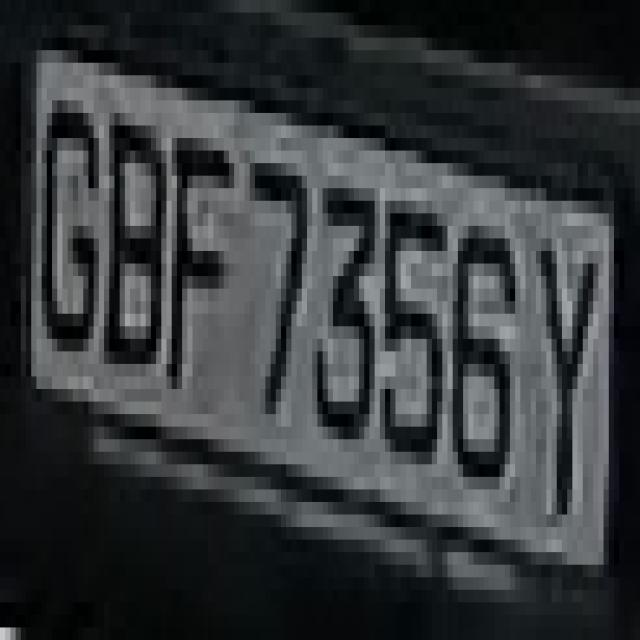3: (312, 113, 375, 477)
5: (385, 163, 442, 464)
6: (448, 176, 515, 552)
7: (245, 76, 318, 490)
B: (104, 50, 172, 414)
F: (172, 76, 234, 440)
G: (15, 25, 99, 439)
Y: (520, 163, 609, 552)
